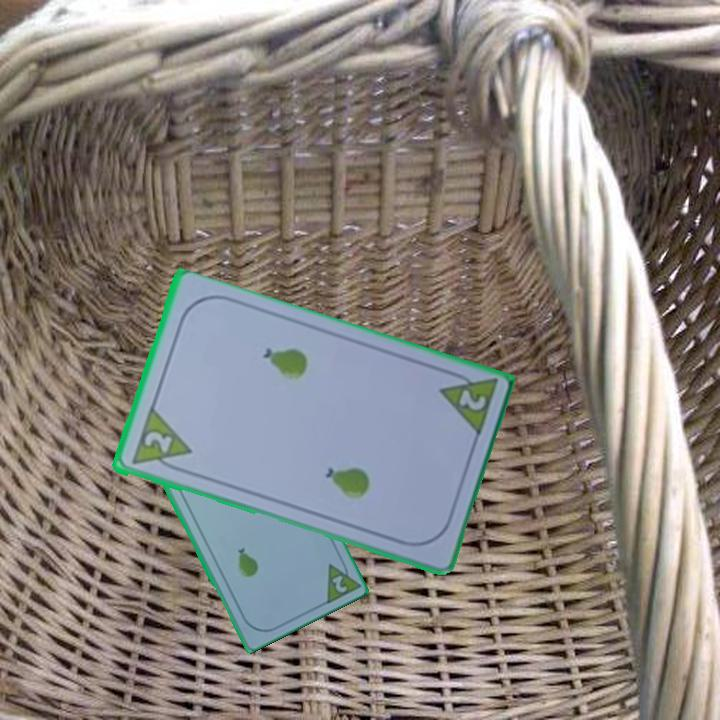2p: (434, 365, 500, 441), (127, 406, 194, 476), (320, 553, 361, 607)
